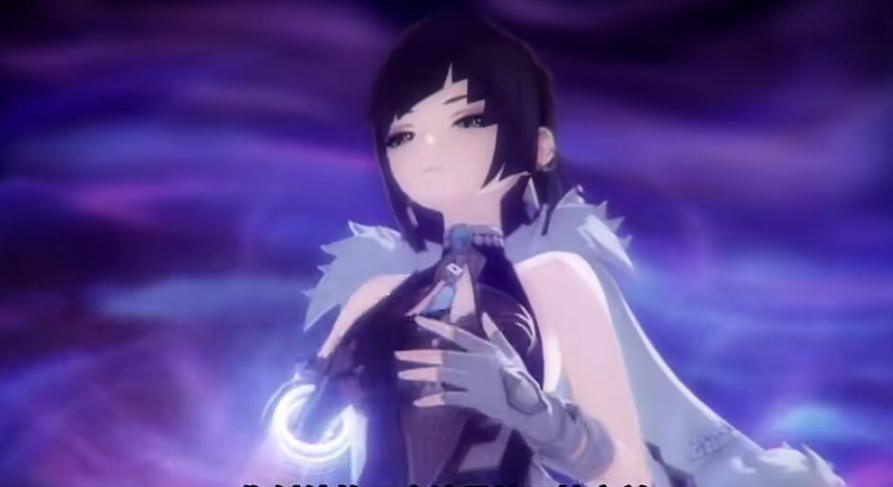夜兰: (233, 26, 652, 487)
